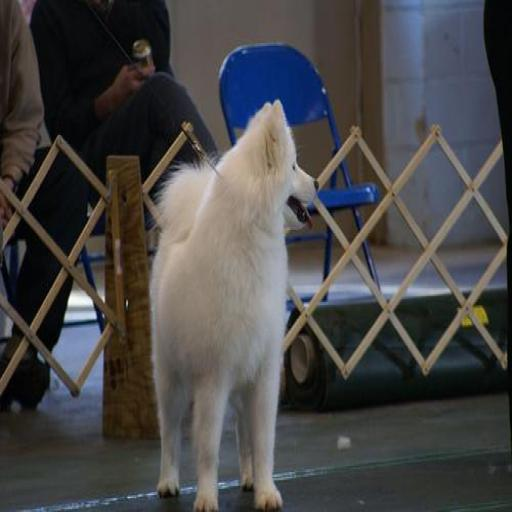dog_face: (249, 110, 319, 235)
